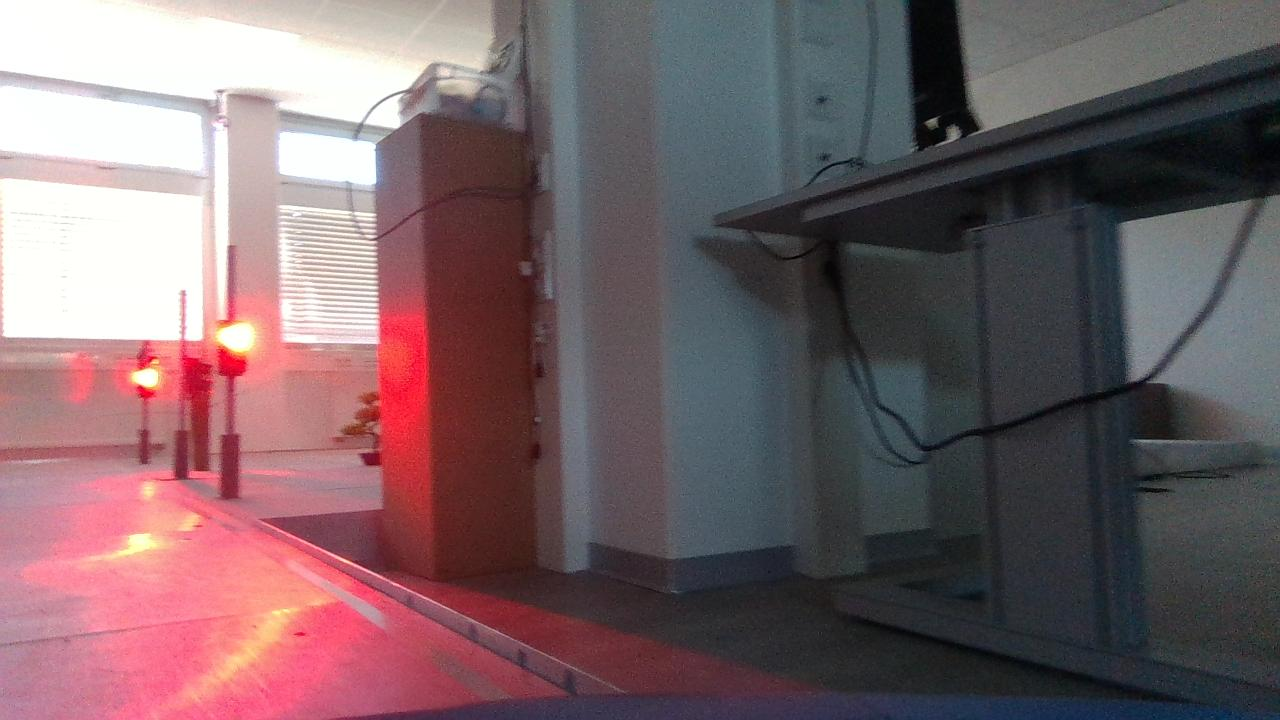traffic_light_red: (205, 314, 259, 389)
